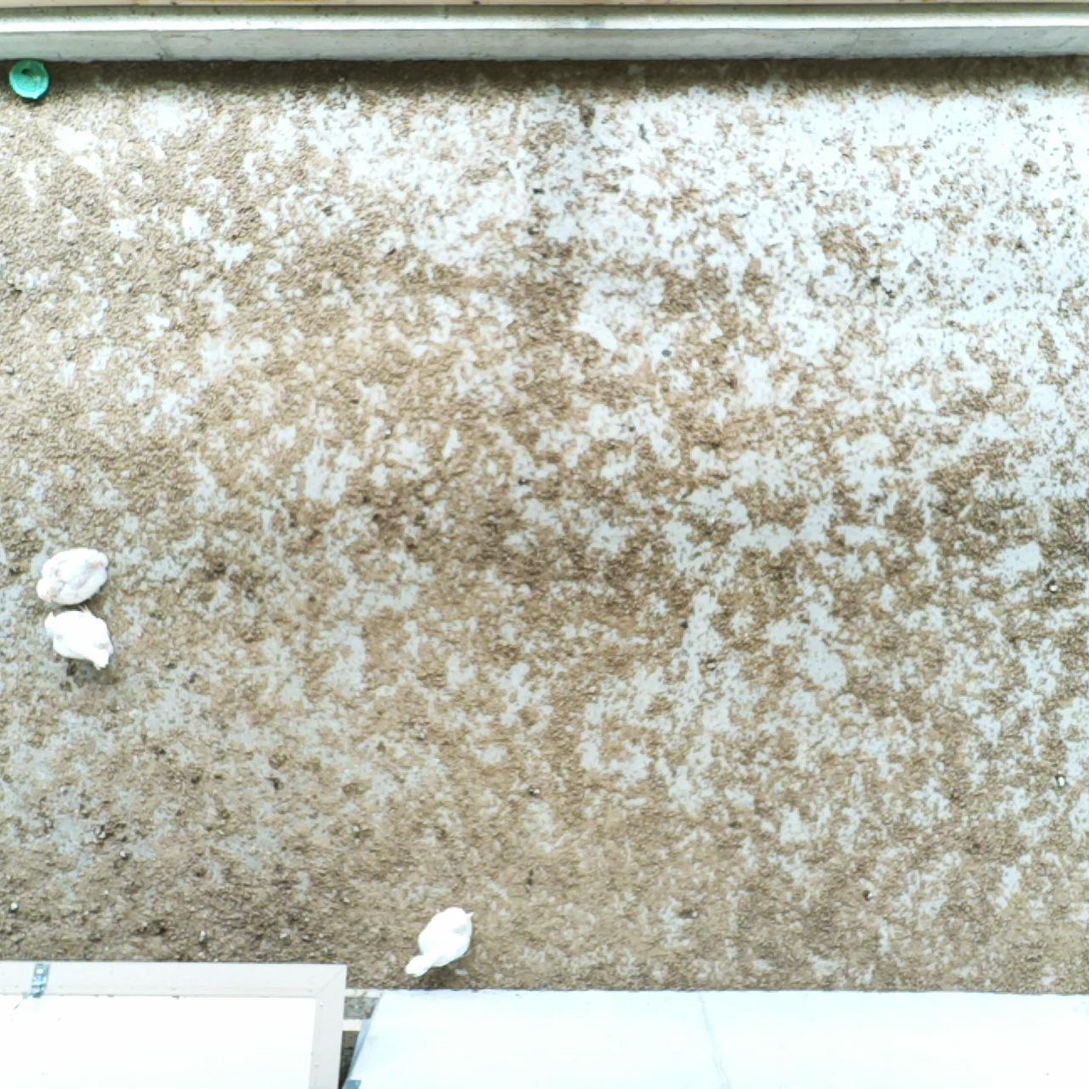chicken: (401, 902, 476, 979), (37, 604, 115, 673), (33, 543, 114, 608)
